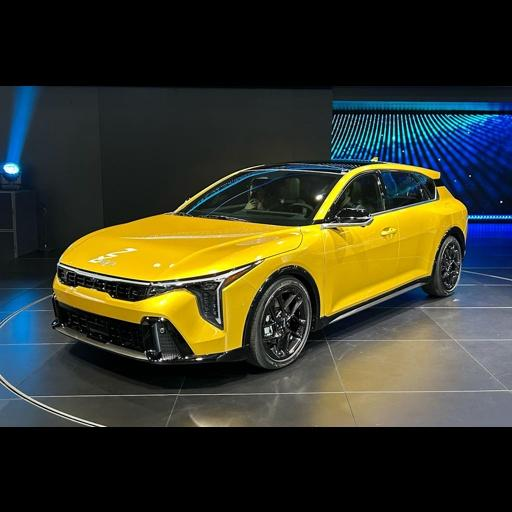hatchback: (51, 159, 467, 368)
